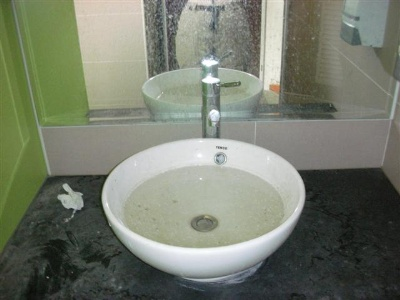bowl: (100, 137, 307, 280)
